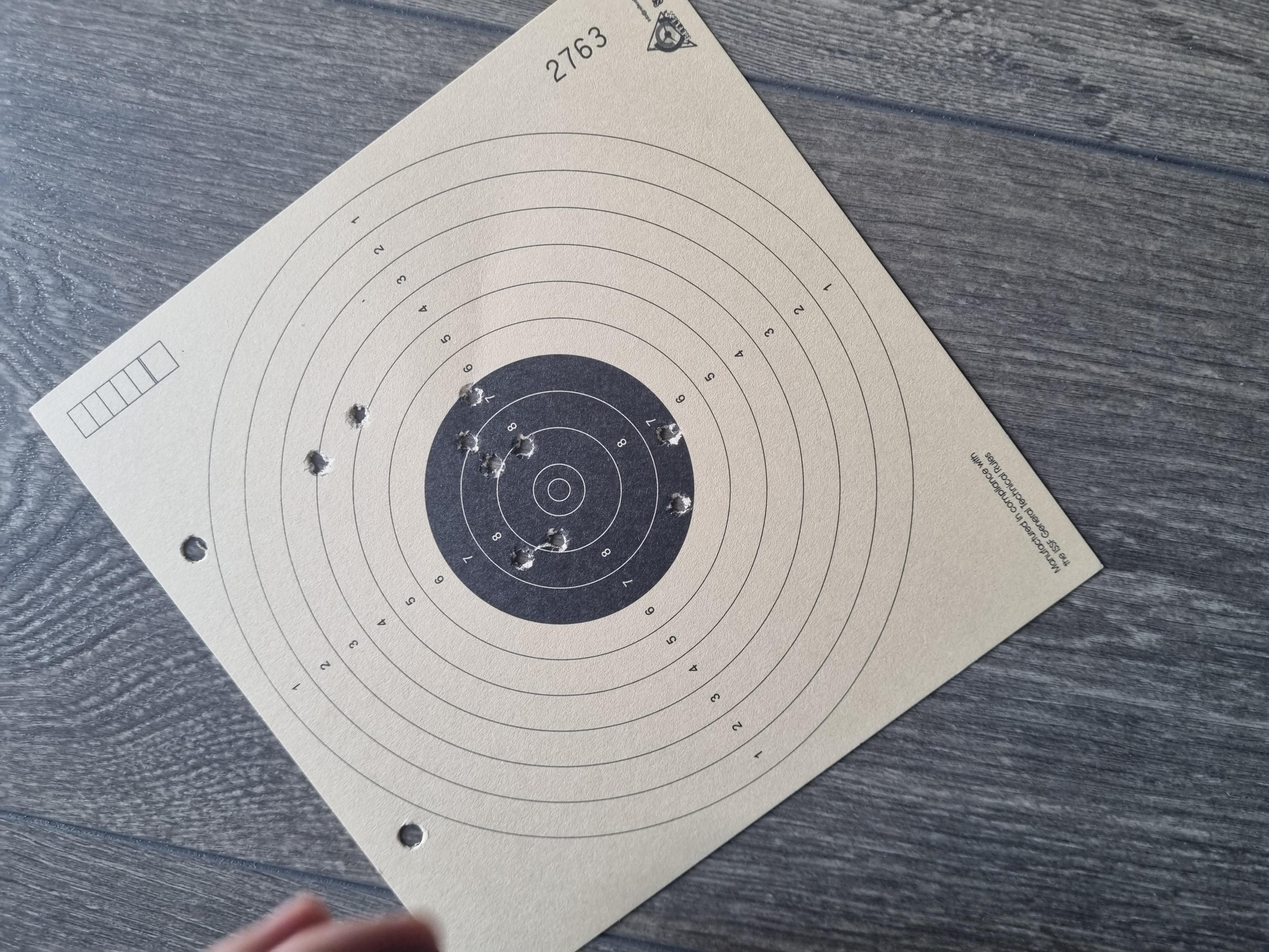hole: (633, 228, 671, 249), (532, 403, 565, 426), (630, 360, 664, 380), (674, 492, 705, 513), (726, 344, 760, 363), (696, 260, 731, 278), (508, 383, 541, 402), (581, 501, 614, 519), (663, 342, 695, 360), (658, 384, 690, 402)
